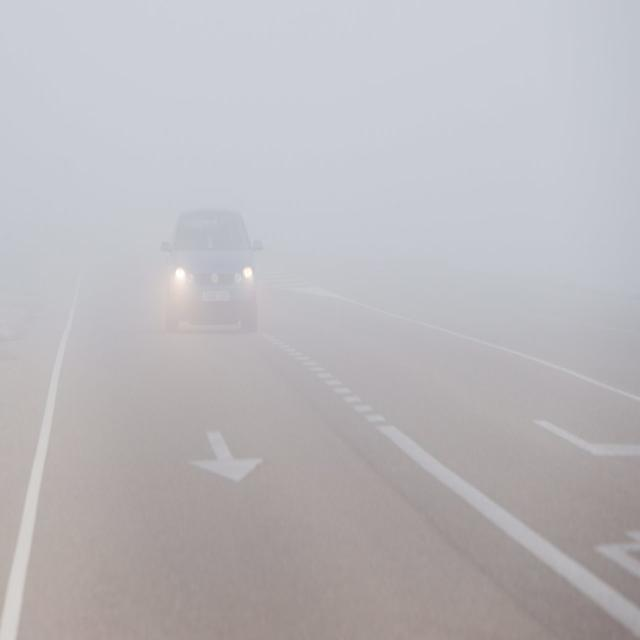car: (160, 208, 260, 334)
